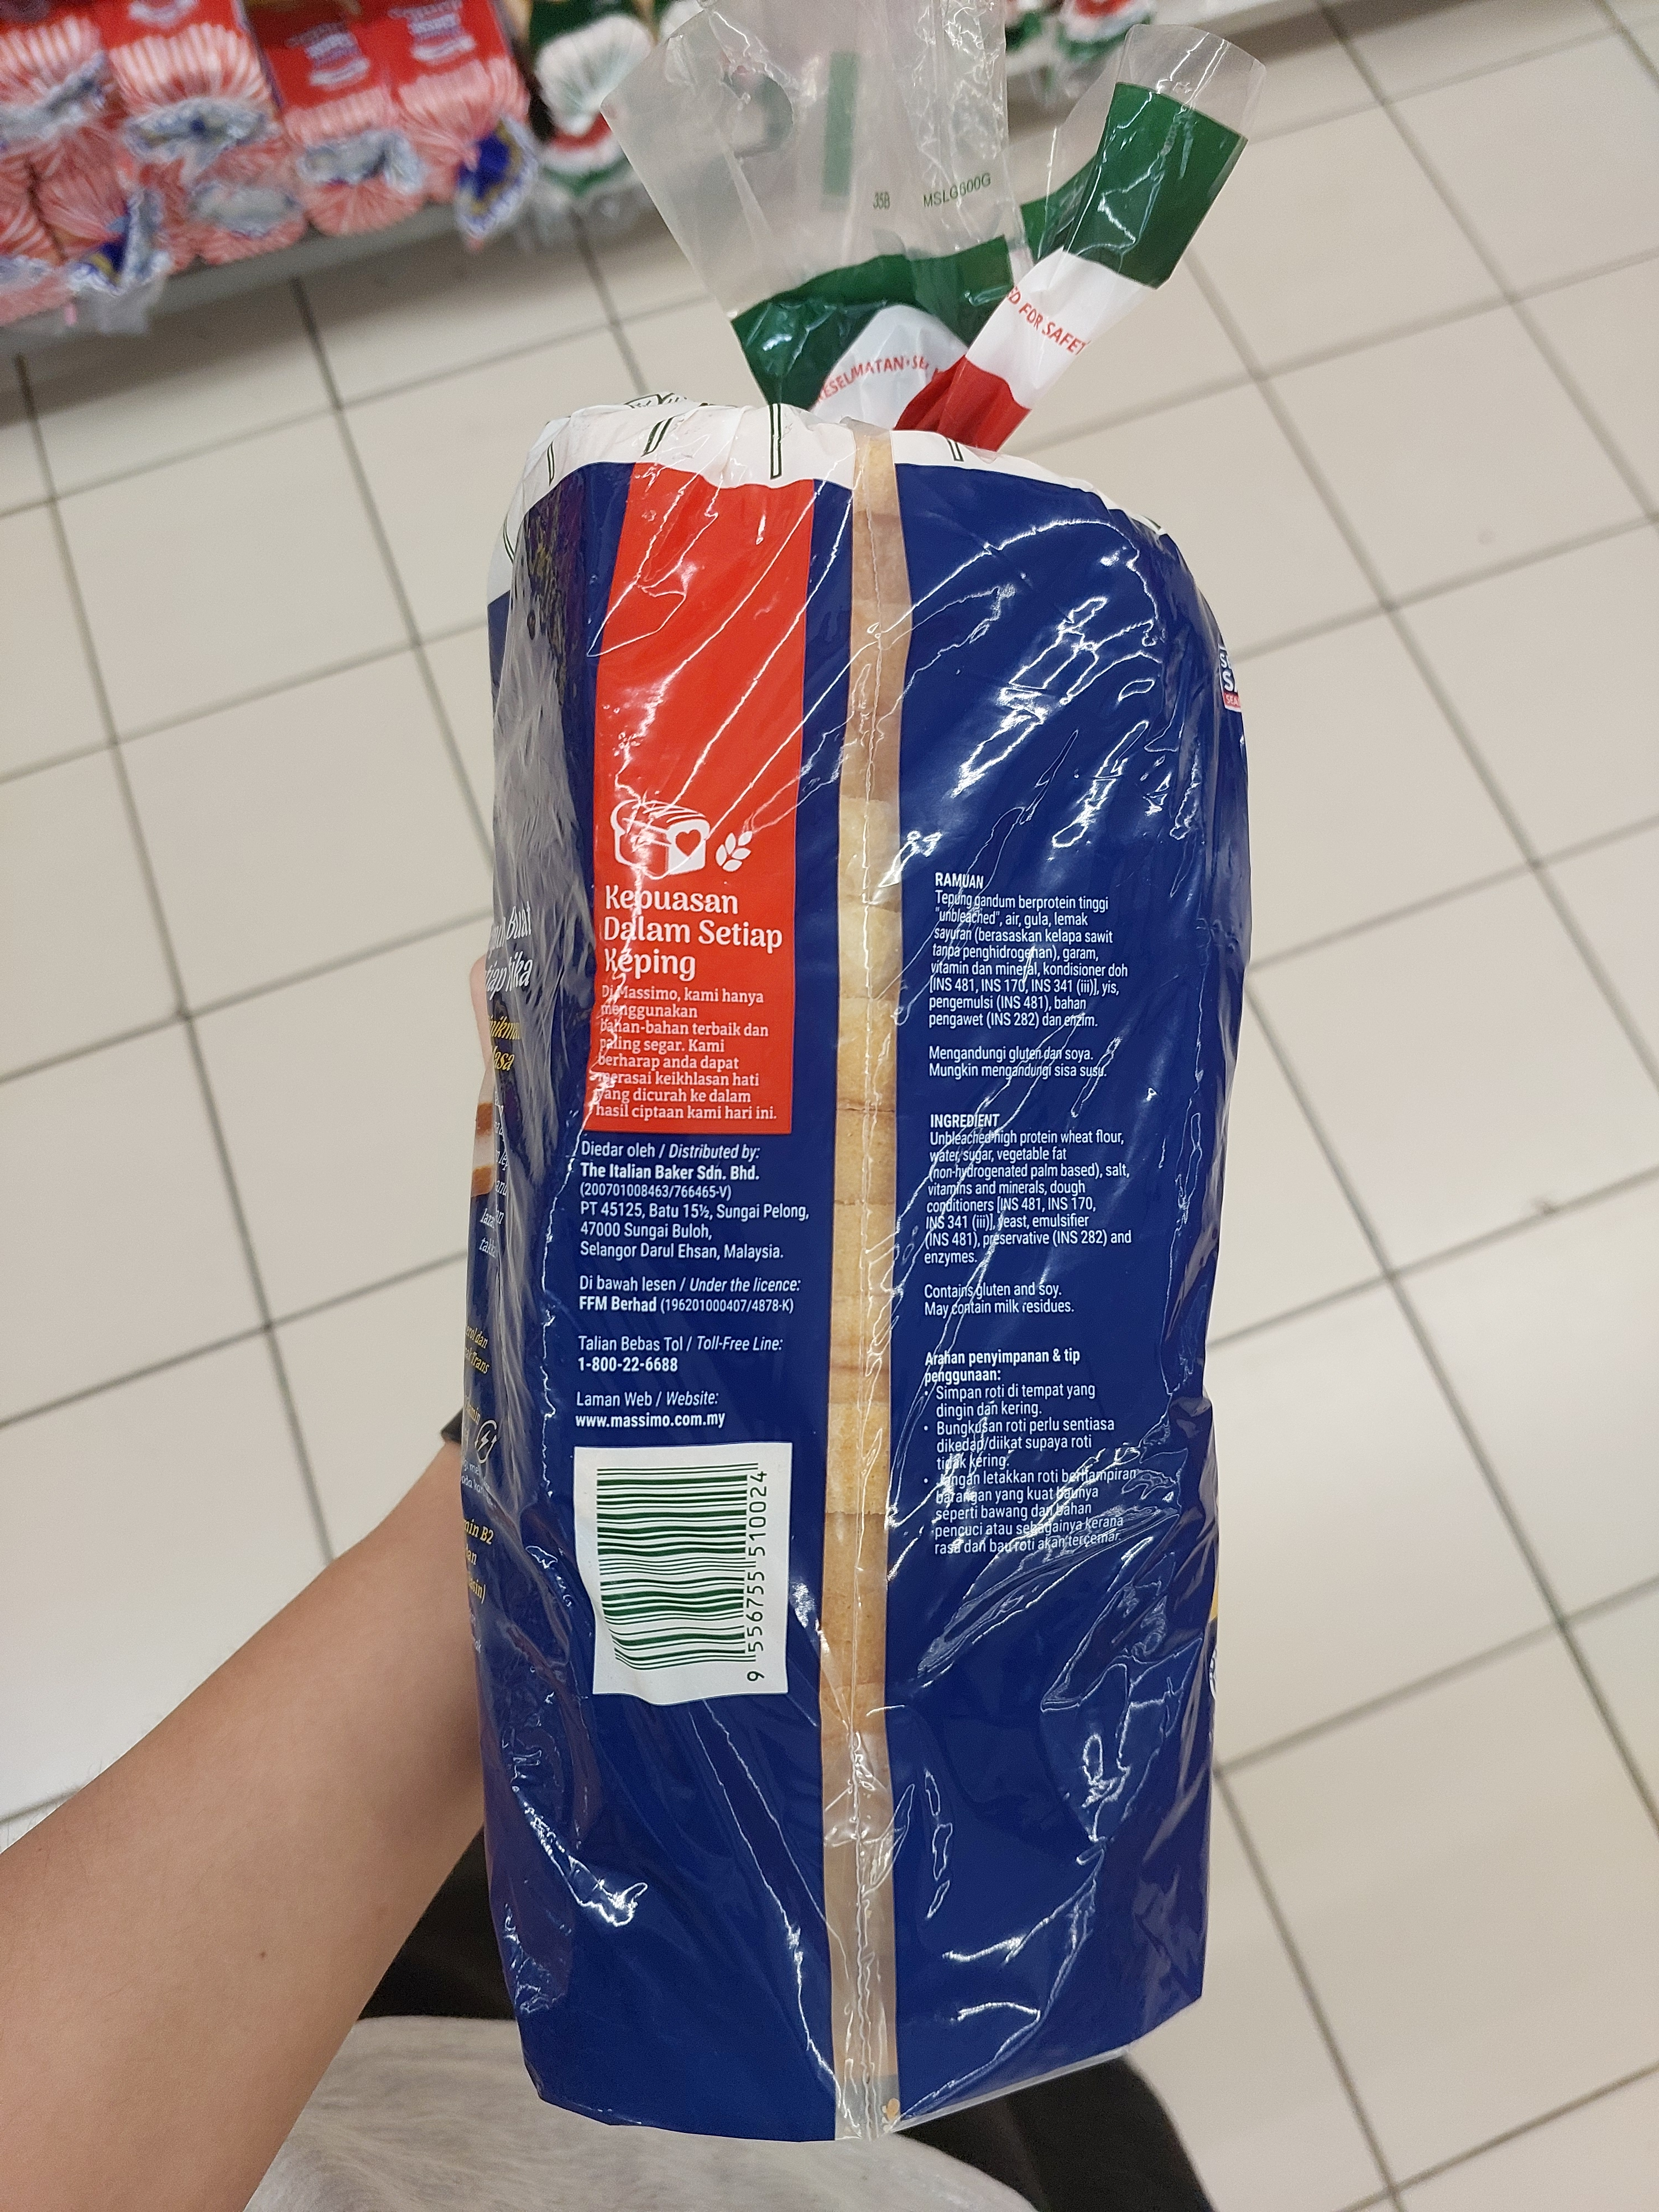bread: (455, 78, 1260, 2149)
